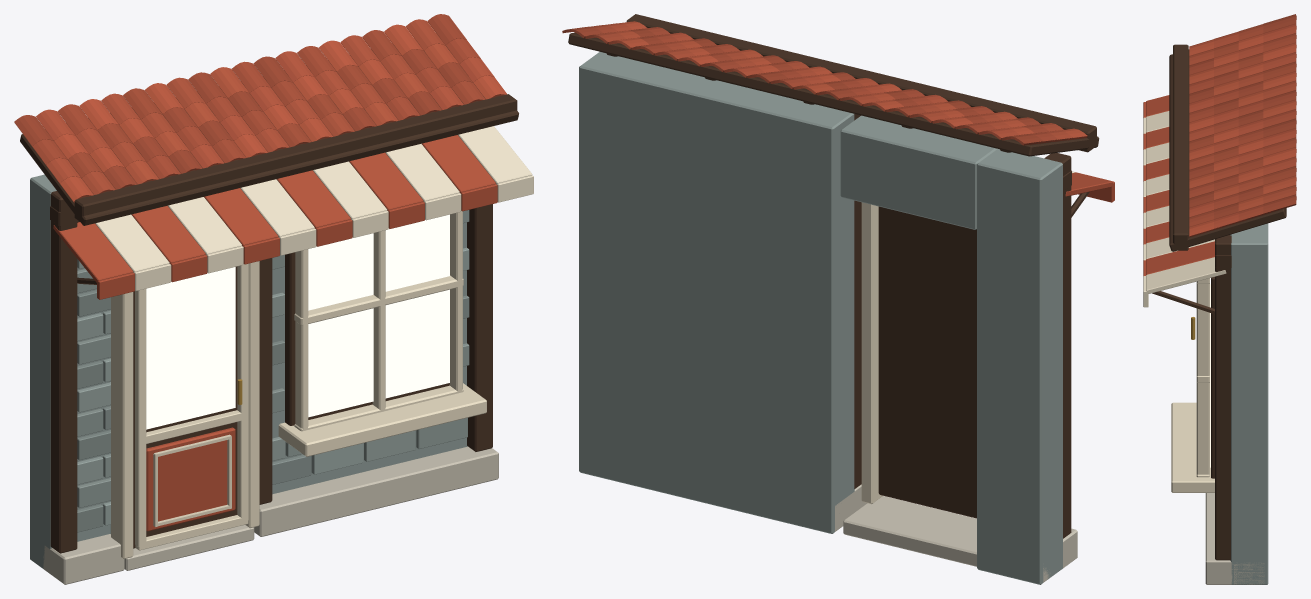
Rendered from SM_Wall_Door_L0.glb.
3 views of the same model, side by side, from view 1: azimuth 30°, elevation 25°; view 2: azimuth 150°, elevation 25°; view 3: azimuth 270°, elevation 25° (orthographic). The views are drawn at different scales.
Visible parts, largest first — view 1: SM_Wall_Door_Static, SM_DoorLeaf; view 2: SM_Wall_Door_Static, SM_DoorLeaf; view 3: SM_Wall_Door_Static.
Part boxes in pixels (<box>): SM_Wall_Door_Static: <box>14,14,533,584</box>; SM_DoorLeaf: <box>133,263,248,550</box>; SM_Wall_Door_Static: <box>562,14,1114,584</box>; SM_DoorLeaf: <box>878,206,976,518</box>; SM_Wall_Door_Static: <box>1143,14,1296,584</box>.
Bounding box in the file's own units: 4 × 3.78 × 1.36.
